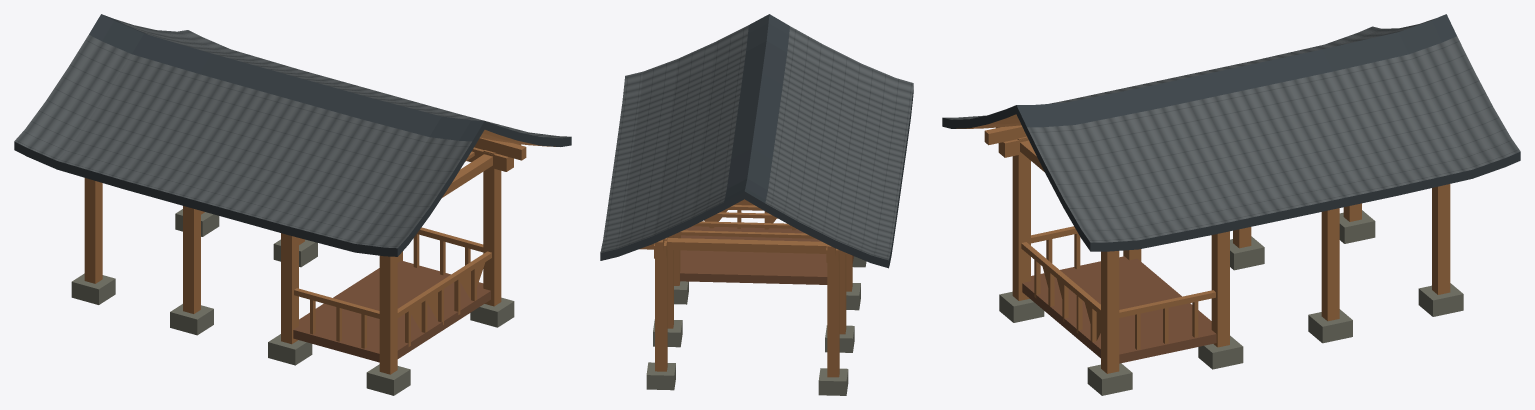
File: intact.glb
The picture shows the model from 3 angles, left to right: view 1: azimuth 30°, elevation 25°; view 2: azimuth 150°, elevation 25°; view 3: azimuth 270°, elevation 25°; orthographic projection. The views are drawn at different scales.
Parts seen in each view (by area): view 1: SM_pavilion_Intact_00; view 2: SM_pavilion_Intact_00; view 3: SM_pavilion_Intact_00.
Part boxes in pixels (bbox=[...]): SM_pavilion_Intact_00: bbox=[14, 14, 571, 395]; SM_pavilion_Intact_00: bbox=[600, 14, 913, 395]; SM_pavilion_Intact_00: bbox=[942, 14, 1520, 395].
Bounding box in the file's own units: 1.95 × 1.08 × 2.2.
5 materials, 1 textured.
